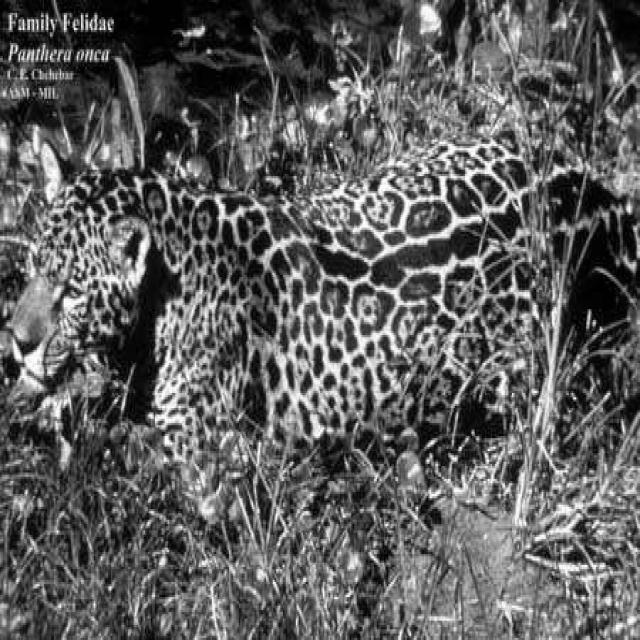Leopard: (9, 116, 638, 477)
